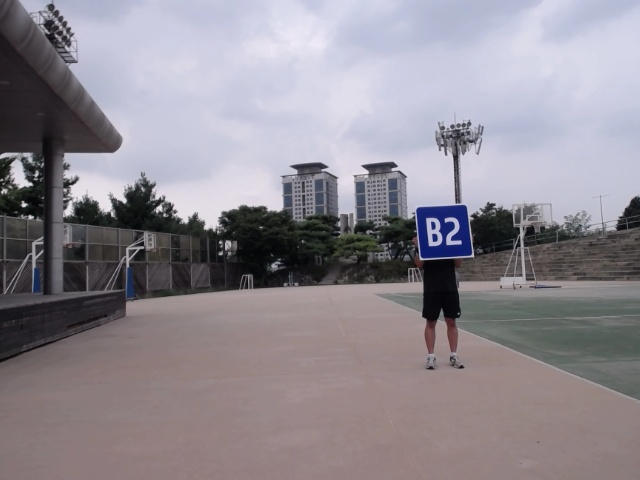delivery_b2: (414, 204, 476, 260)
